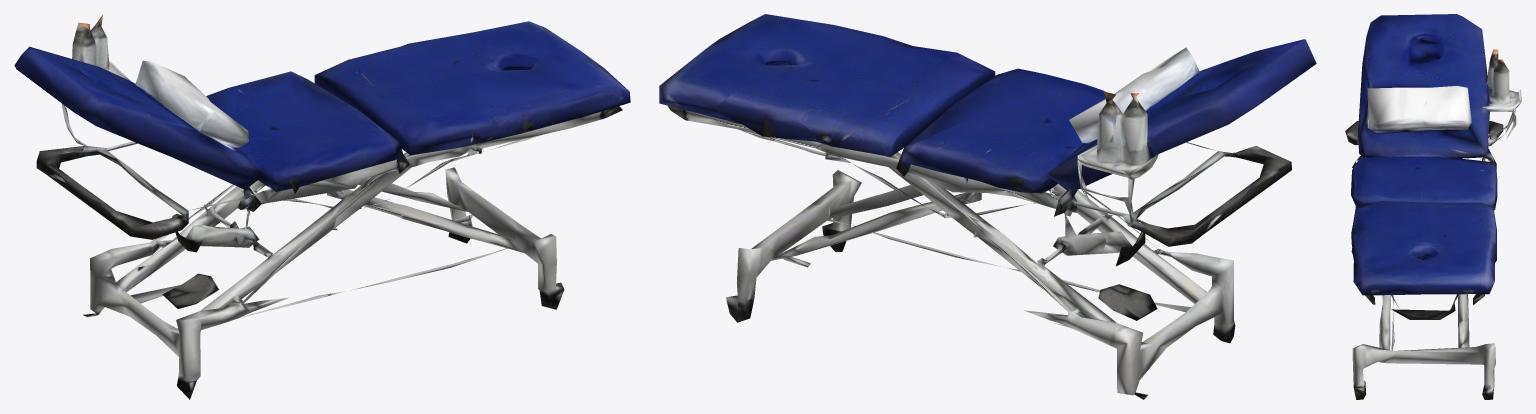
The model's file is innen_liege.glb.
3 renders of one model, left to right at view 1: azimuth 30°, elevation 25°; view 2: azimuth 150°, elevation 25°; view 3: azimuth 270°, elevation 25°, orthographic. The views are drawn at different scales.
Visible parts, largest first — view 1: tripo_node_2dfefd45-ea41-4854-bcf0-6581590af203; view 2: tripo_node_2dfefd45-ea41-4854-bcf0-6581590af203; view 3: tripo_node_2dfefd45-ea41-4854-bcf0-6581590af203.
Boxes of the visible parts, x1,y1,x2,y2 form: tripo_node_2dfefd45-ea41-4854-bcf0-6581590af203: [14, 14, 630, 399]; tripo_node_2dfefd45-ea41-4854-bcf0-6581590af203: [659, 14, 1316, 399]; tripo_node_2dfefd45-ea41-4854-bcf0-6581590af203: [1345, 14, 1521, 399].
Bounding box in the file's own units: 0.9958 × 0.5593 × 0.3918.
Materials: 1 (1 with a texture image).
